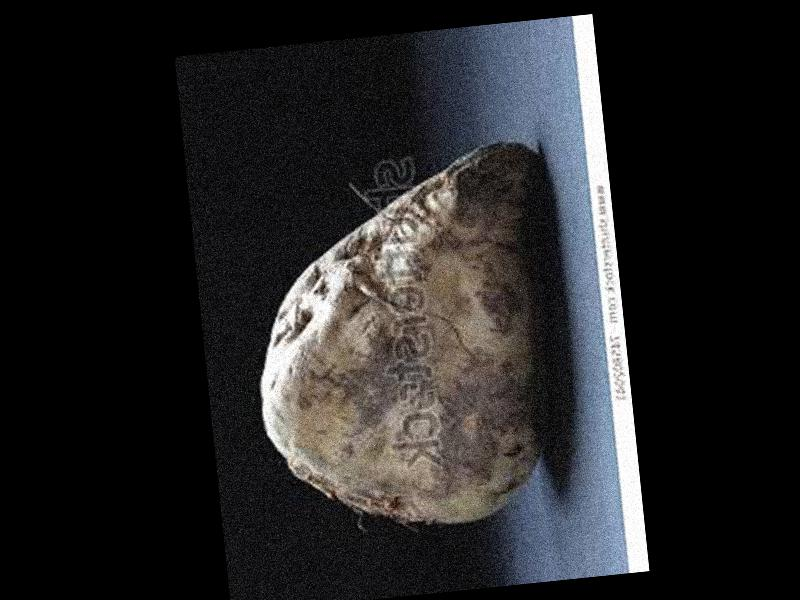Beet: (240, 144, 572, 546)
